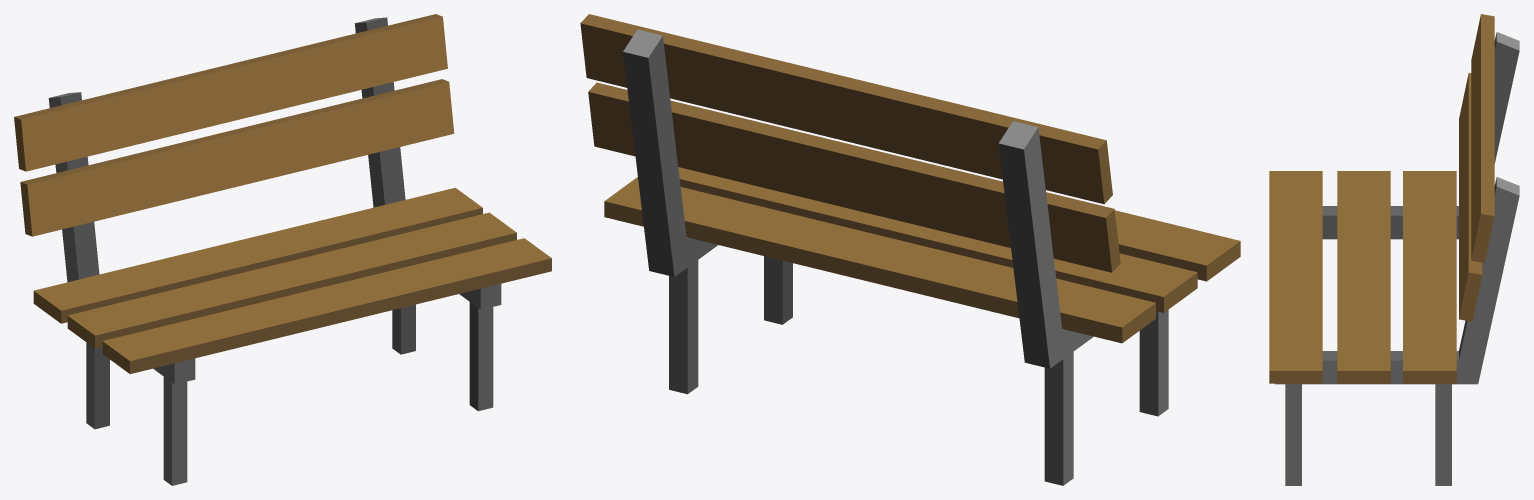
Rendered from SM_Bench_Large_01.fbx.
The picture shows the model from 3 angles, left to right: view 1: azimuth 30°, elevation 25°; view 2: azimuth 150°, elevation 25°; view 3: azimuth 270°, elevation 25°; orthographic projection. The views are drawn at different scales.
Parts seen in each view (by area): view 1: SM_Bench_Large_01; view 2: SM_Bench_Large_01; view 3: SM_Bench_Large_01.
Part boxes in pixels (box(x1,y1,x2,y2)): SM_Bench_Large_01: box(14, 14, 551, 485); SM_Bench_Large_01: box(580, 14, 1240, 485); SM_Bench_Large_01: box(1269, 14, 1519, 485).
Size of the model in its own units: 3.16 by 2.22 by 1.67.
